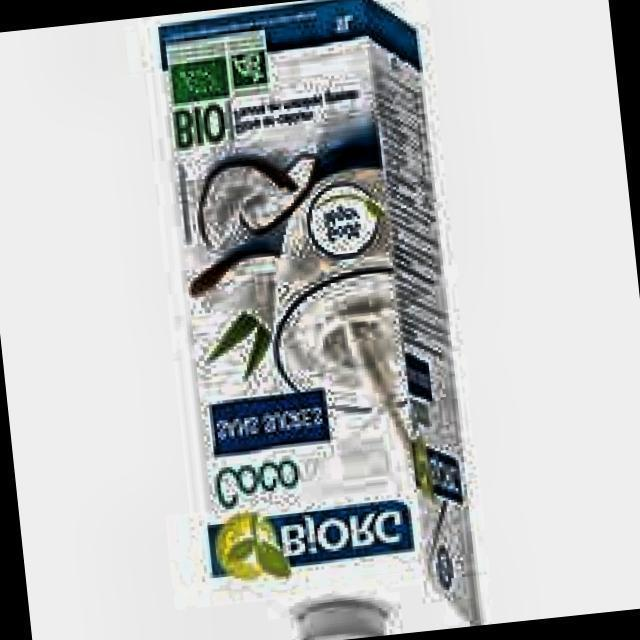cardboard: (137, 0, 483, 640)
